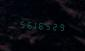five: (17, 18, 23, 29), (45, 20, 51, 31)
nine: (59, 21, 65, 32)
one: (31, 19, 37, 30)
six: (24, 18, 30, 30), (38, 19, 44, 31)
two: (52, 20, 58, 32)
